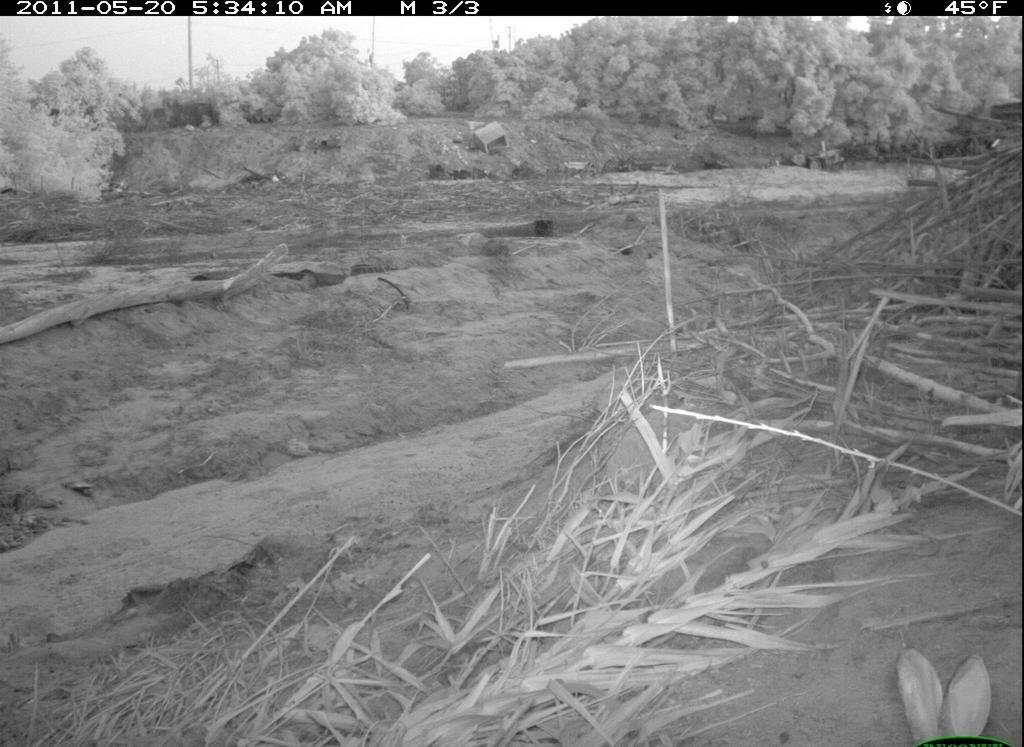rabbit: (875, 630, 1012, 747)
